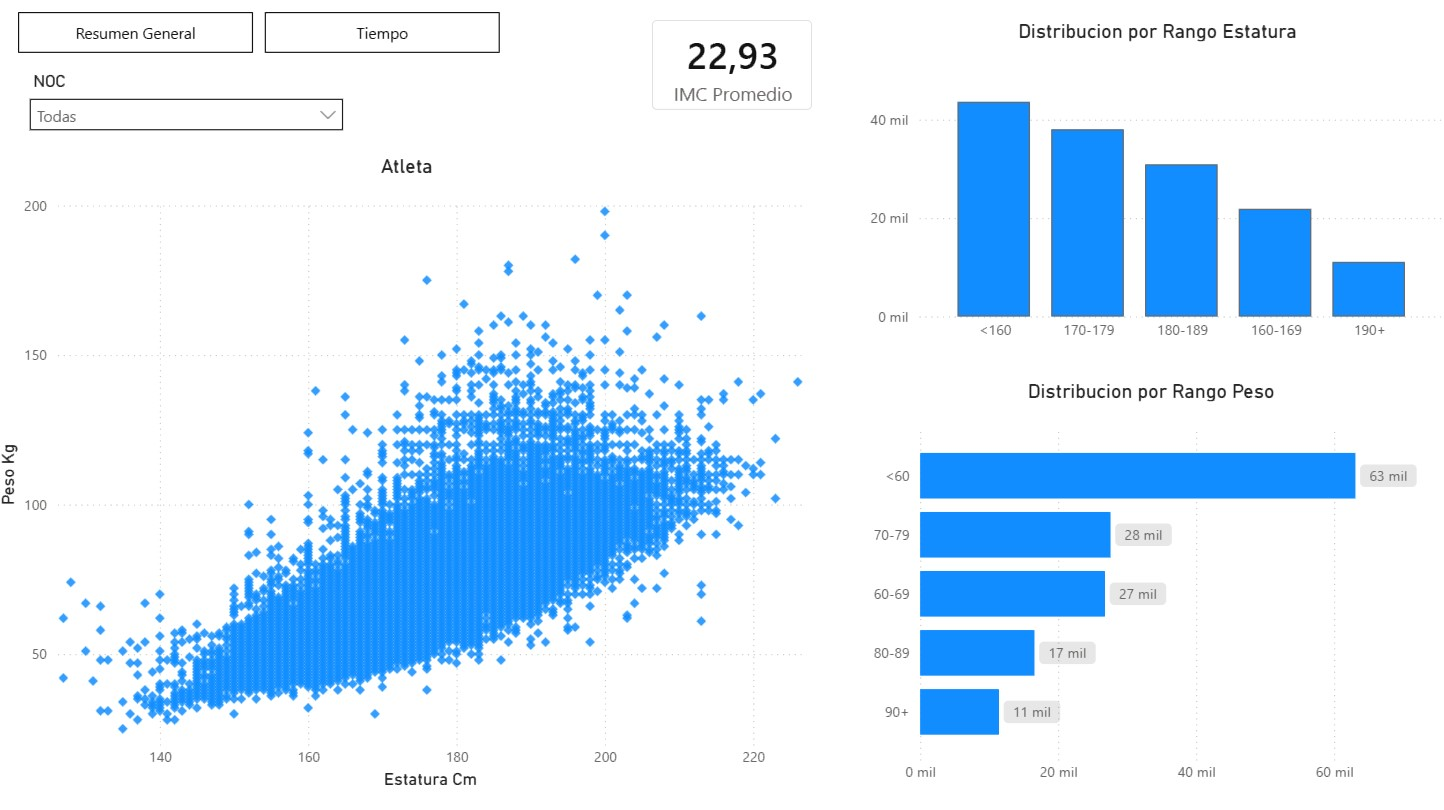

Layout of this report page (visuals, bound fields, positions):
{"tool":"powerbi","page":{"name":"Perfil Fisico","canvas":[1280,720],"ordinal":1},"visuals":[{"type":"scatterChart","title":"Atleta","fields":{"X":["bios_new.Estatura_Cm"],"Y":["bios_new.Peso_Kg"]},"box":[7.7,141.9,707.3,547.3],"z":0},{"type":"clusteredColumnChart","title":"Distribucion por Rango Estatura","fields":{"Category":["bios_new.Rango_Estructura"],"Y":["MEDIDAS.Total_Atleta"]},"box":[752.3,26.7,501.8,284.3],"z":1000},{"type":"clusteredBarChart","title":"Distribucion por Rango Peso","fields":{"Category":["bios_new.Rango_Peso"],"Y":["MEDIDAS.Total_Atleta"]},"box":[752.3,334.3,491.1,354.8],"z":2000},{"type":"cardVisual","title":"ff","fields":{"Data":["MEDIDAS.IMC_Promedio"]},"box":[554.3,10.5,171.1,111.4],"z":3000},{"type":"pageNavigator","box":[28.9,20.1,413.6,35.8],"z":4000},{"type":"slicer","fields":{"Values":["bios_new.NOC"]},"box":[28.9,66.4,287.7,63.8],"z":5000}]}

Visuals, with their boxes in screenshot pixels (x1, y1, x2, y2), scaled from the page's 1280x720 canvas onto the 1444x810 screenshot:
"Atleta" scatterChart: (x1=9, y1=160, x2=807, y2=775)
"Distribucion por Rango Estatura" clusteredColumnChart: (x1=849, y1=30, x2=1415, y2=350)
"Distribucion por Rango Peso" clusteredBarChart: (x1=849, y1=376, x2=1403, y2=775)
"ff" cardVisual: (x1=625, y1=12, x2=818, y2=137)
pageNavigator: (x1=33, y1=23, x2=499, y2=63)
slicer - bios_new.NOC: (x1=33, y1=75, x2=357, y2=146)
